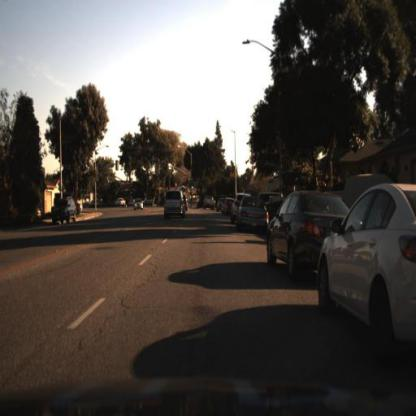car: (318, 182, 416, 359), (265, 187, 356, 276), (339, 170, 390, 208), (235, 191, 270, 233), (51, 192, 79, 228), (162, 190, 185, 221), (204, 194, 220, 215), (73, 197, 87, 217)
trafficLight-Green: (191, 180, 196, 192)
